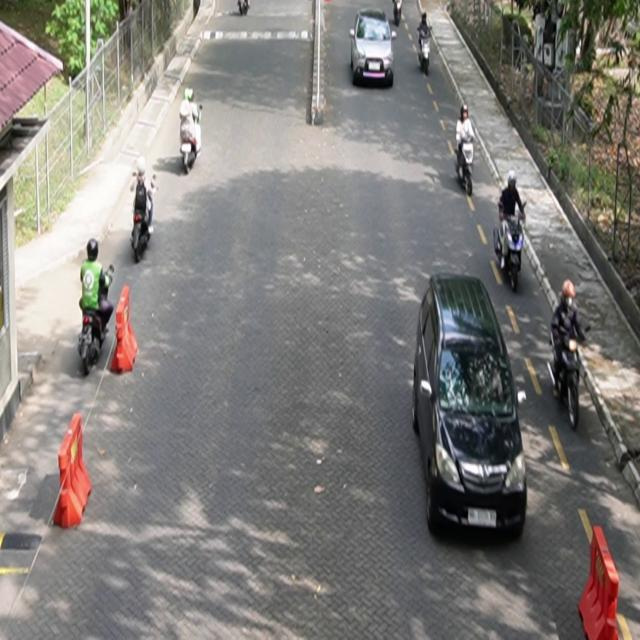car: (413, 273, 529, 540), (350, 8, 398, 88)
